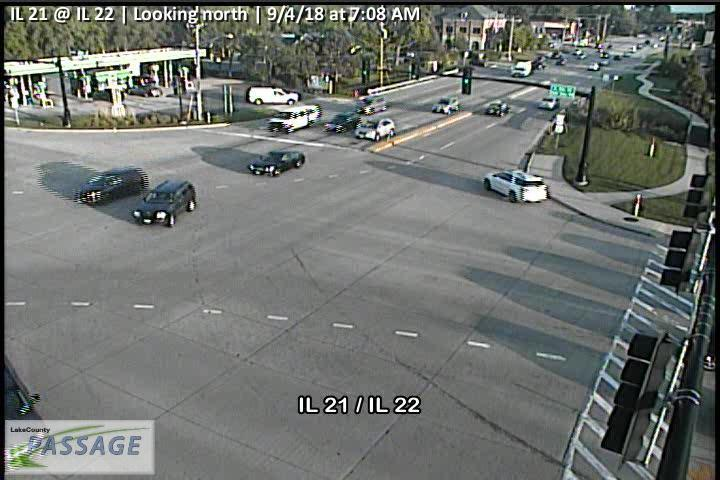SUV: (132, 178, 197, 226), (78, 165, 147, 206), (483, 168, 548, 203), (268, 103, 320, 134), (354, 117, 396, 142), (323, 110, 360, 134), (355, 94, 387, 115), (431, 96, 459, 115)
Sedan: (247, 150, 306, 177), (484, 102, 509, 117), (537, 95, 560, 110)
Truck: (248, 86, 299, 104)
